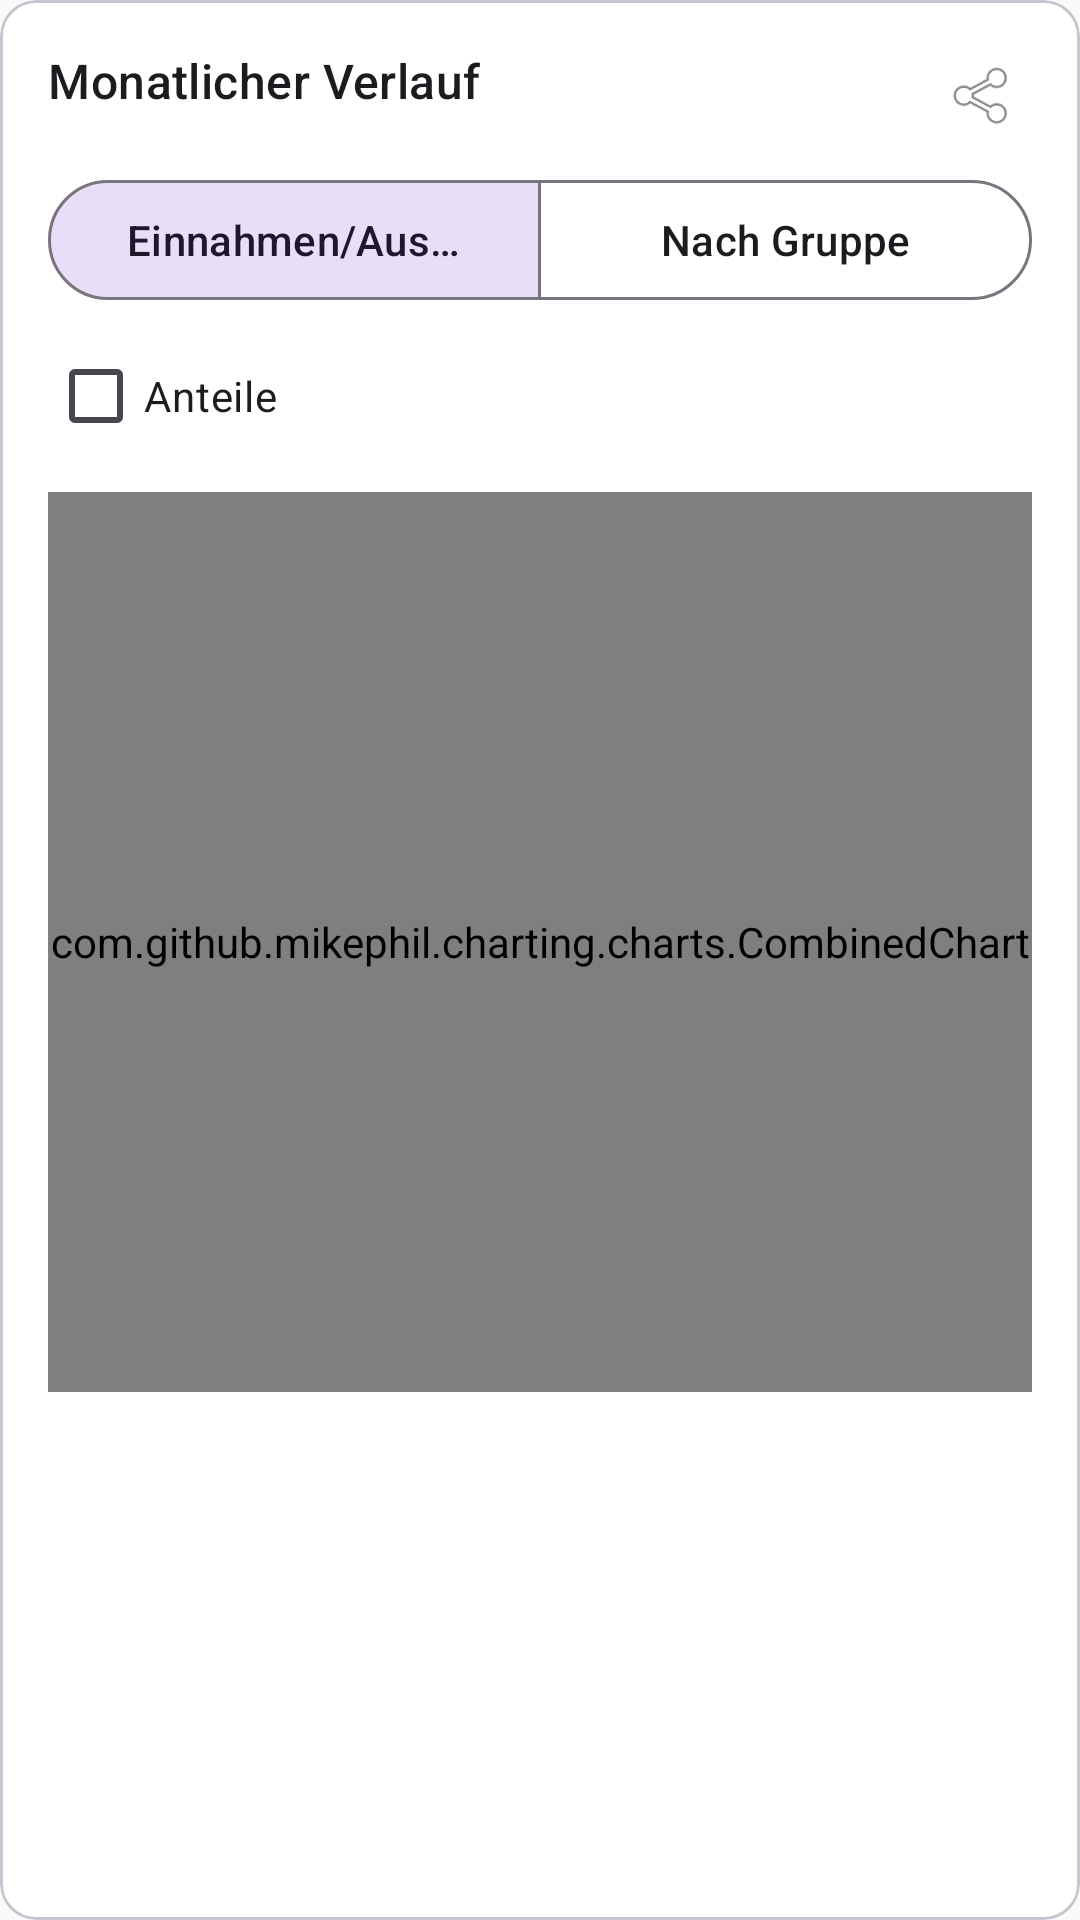

Where icons sit on this 1080 × 1920 app screen, as (x1, y1, x2, y2):
Verlauf exportieren: (953, 67, 1007, 124)
